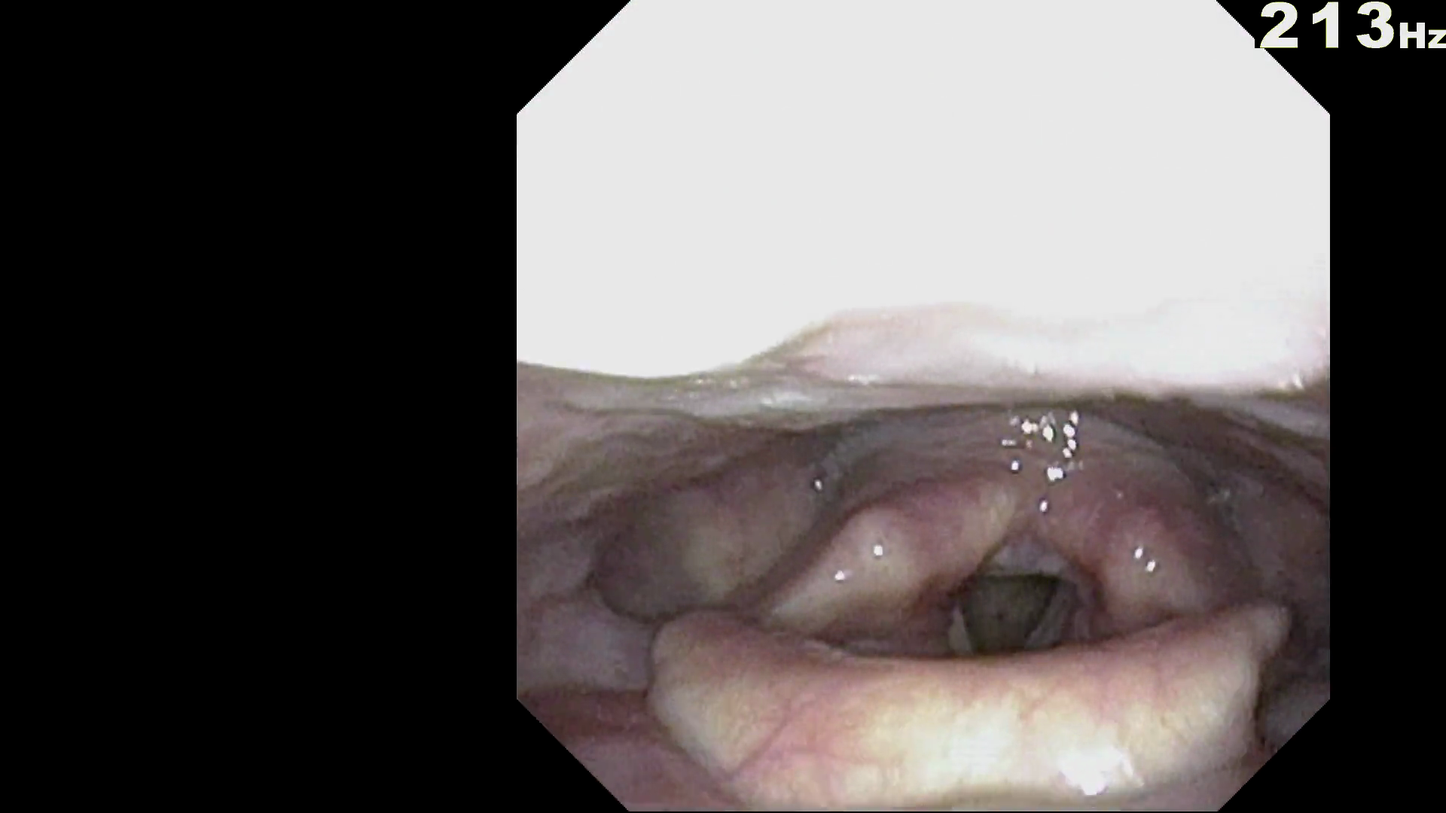epiglottis: (687, 658, 1229, 798)
trachea: (932, 567, 1061, 696)
